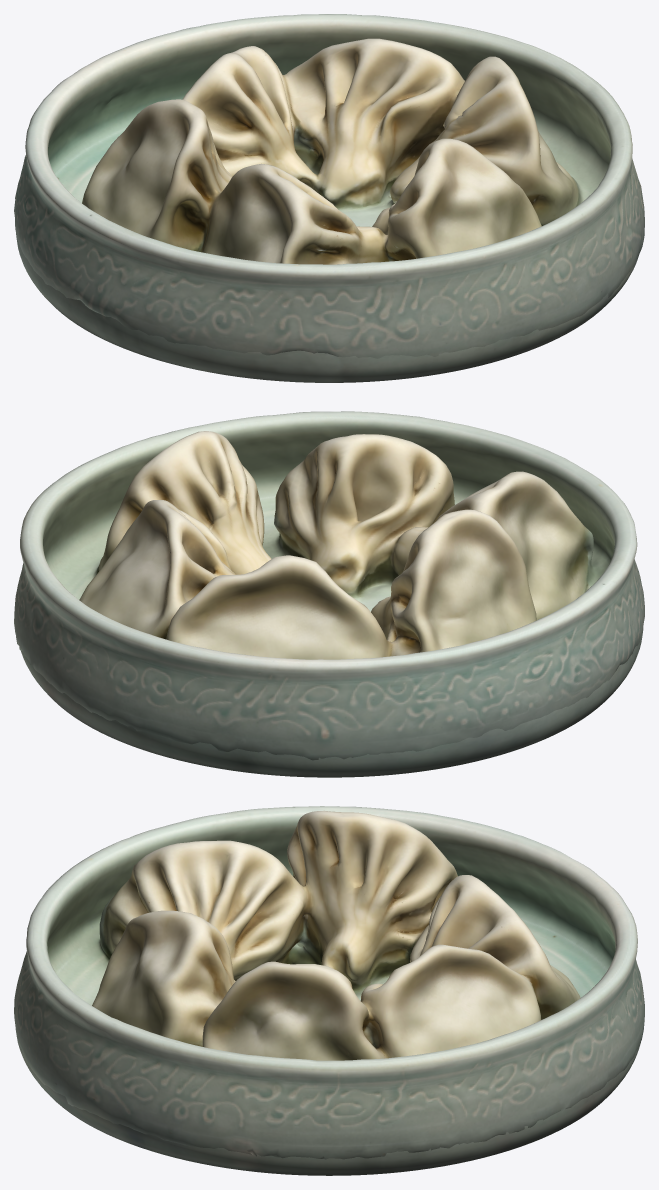
3 renders of one model, top to bottom at view 1: azimuth 30°, elevation 25°; view 2: azimuth 150°, elevation 25°; view 3: azimuth 270°, elevation 25°, orthographic.
Parts seen in each view (by area): view 1: 6; view 2: 6; view 3: 6.
Boxes of the visible parts, bbox=[...] form: 6: bbox=[14, 14, 644, 382]; 6: bbox=[14, 411, 644, 777]; 6: bbox=[14, 806, 644, 1175].
Bounding box in the file's own units: 1.49 × 0.4494 × 1.49.
Materials: 1 (1 with a texture image).
